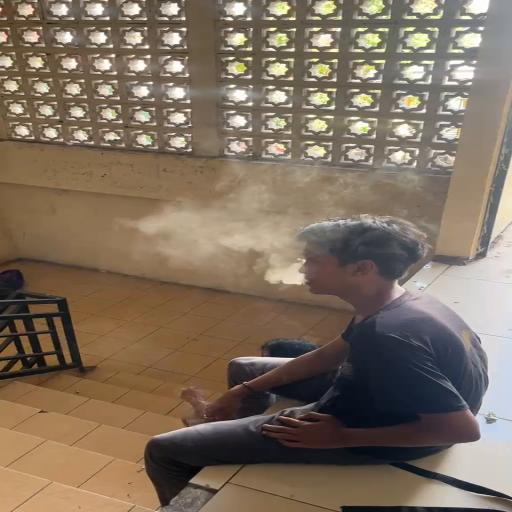asap rokok: (249, 226, 338, 298)
